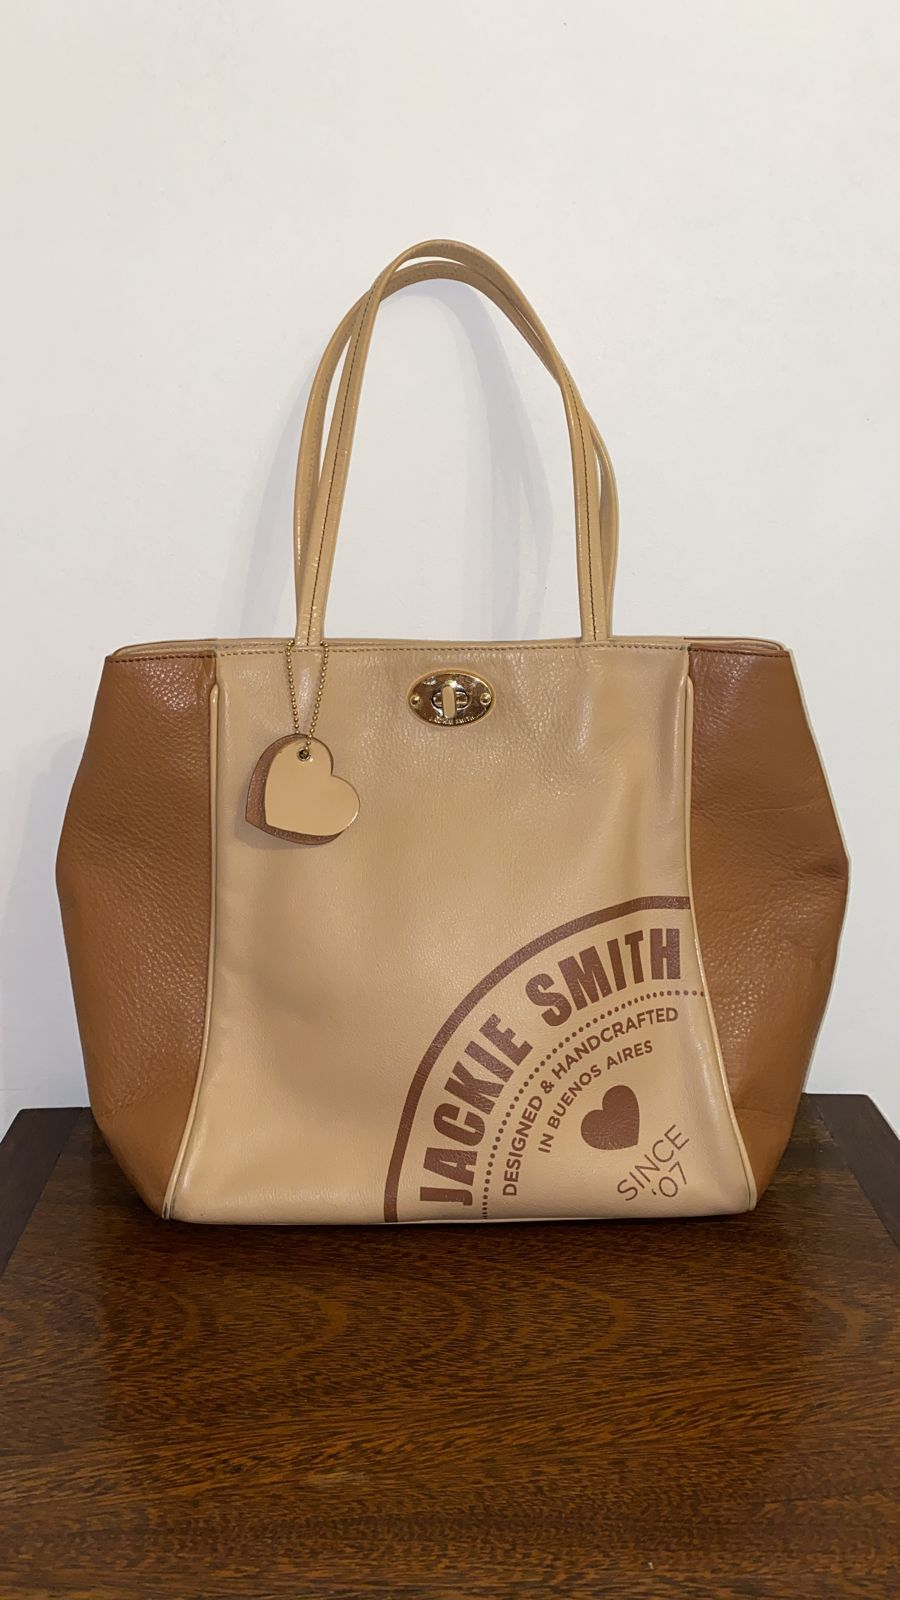cartera: (54, 219, 851, 1233)
cuero: (109, 691, 752, 1187)
